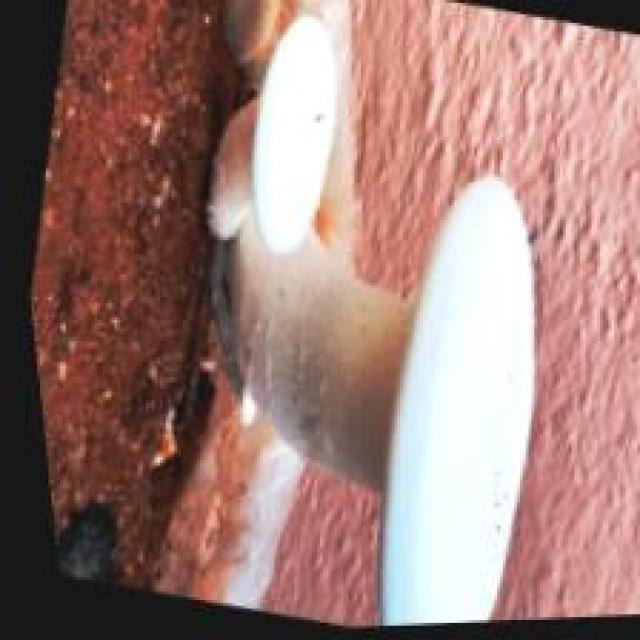death-cap: (26, 0, 637, 626)
